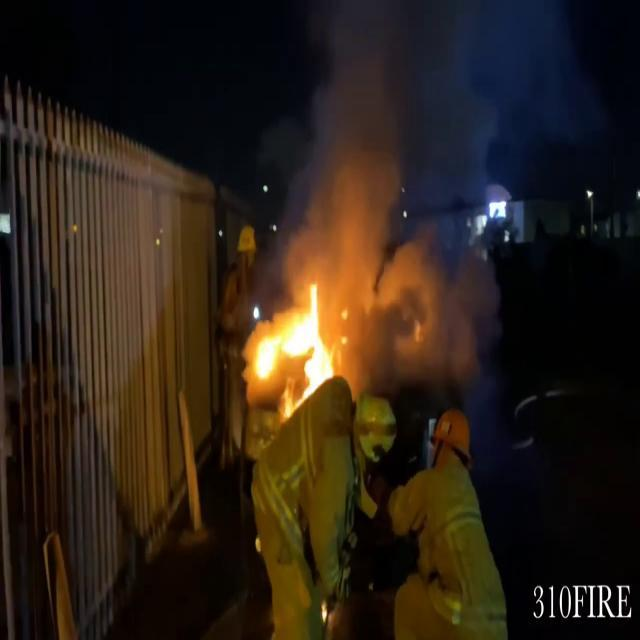Fire: (252, 275, 342, 409)
Smoke: (272, 0, 576, 310)
